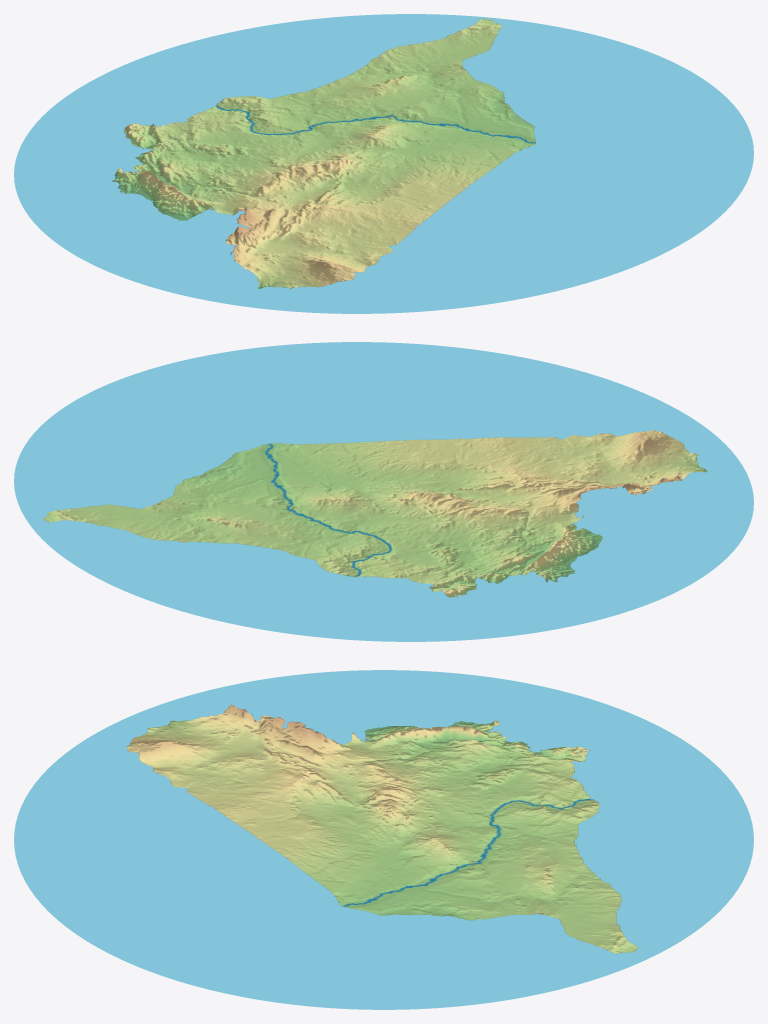
File: SYR-terrain.glb
The picture shows the model from 3 angles, top to bottom: view 1: azimuth 30°, elevation 25°; view 2: azimuth 150°, elevation 25°; view 3: azimuth 270°, elevation 25°; orthographic projection. The views are drawn at different scales.
Visible parts, largest first — view 1: Relevo com hidrografia; view 2: Relevo com hidrografia; view 3: Relevo com hidrografia.
Part boxes in pixels (<box>): Relevo com hidrografia: <box>14,14,753,313</box>; Relevo com hidrografia: <box>14,342,753,641</box>; Relevo com hidrografia: <box>14,670,753,1009</box>.
Size of the model in its own units: 2.3 by 0.0699 by 2.12.
2 materials, 1 textured.
